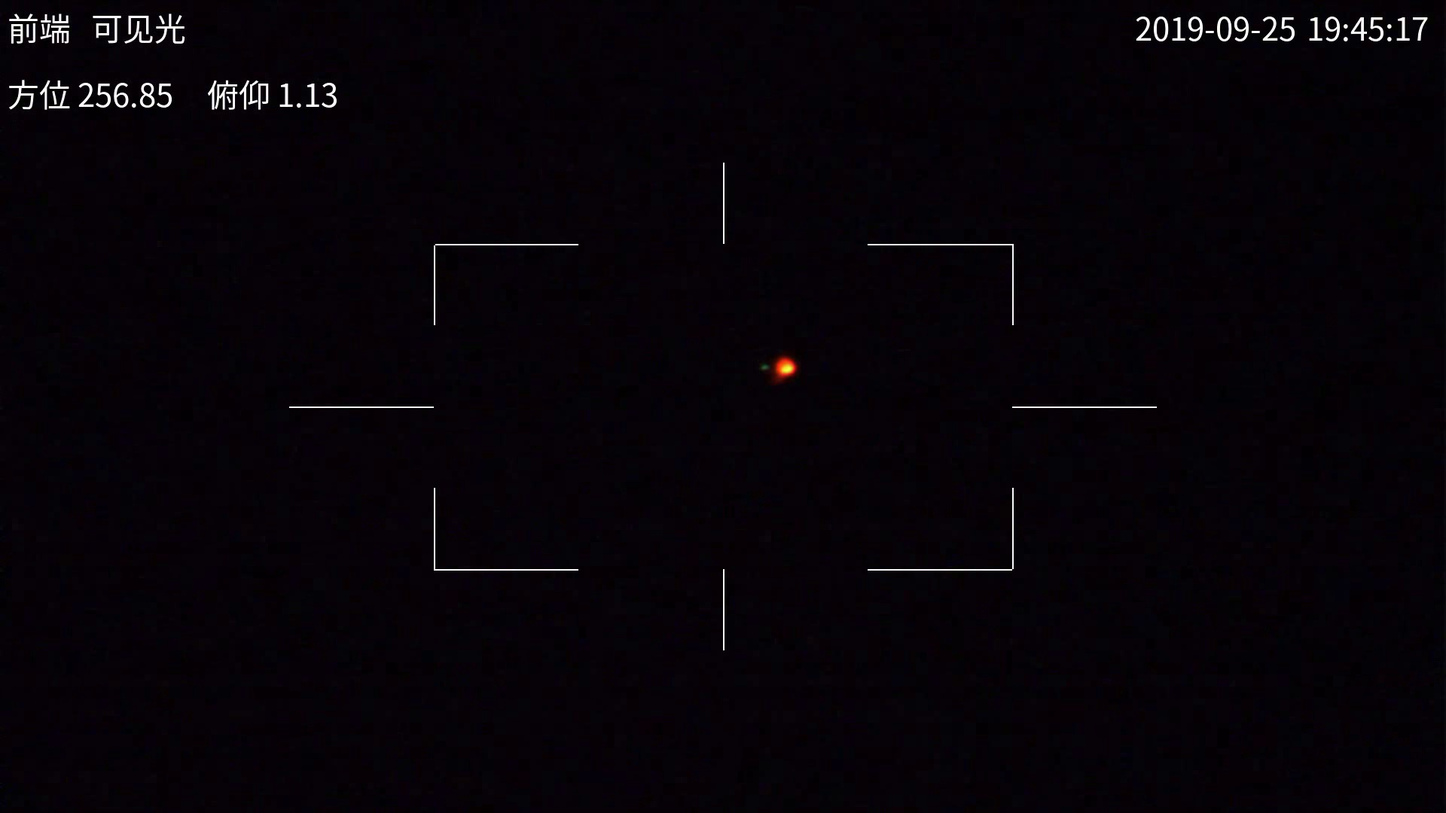drone: (757, 352, 798, 385)
